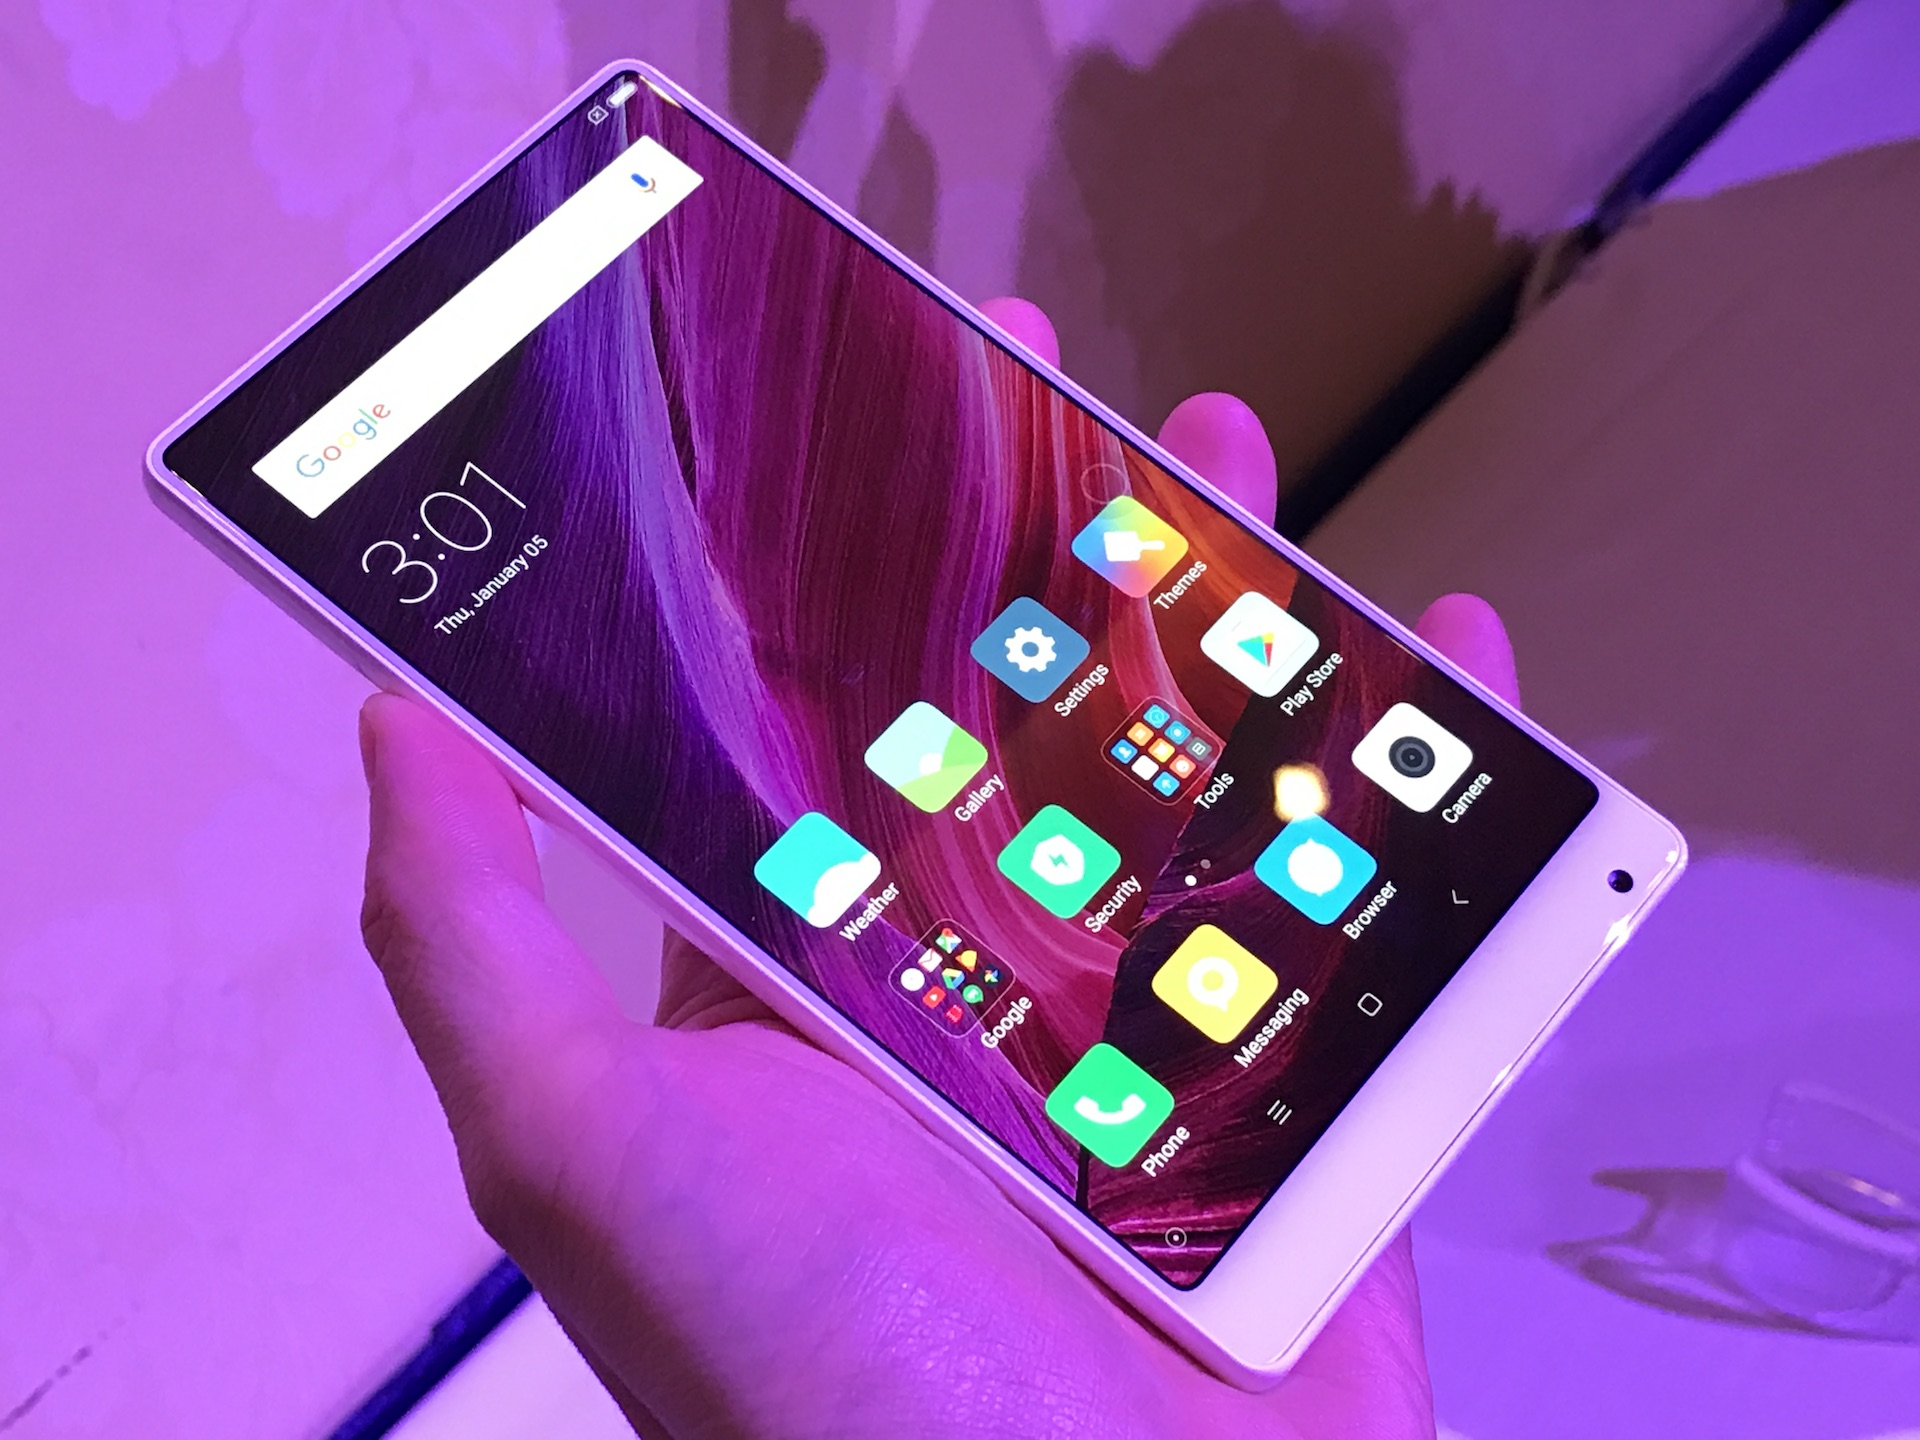smartphone: (141, 53, 1693, 1399)
